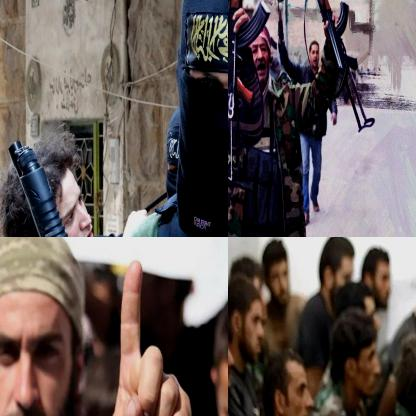rifle: (292, 0, 375, 134), (0, 347, 155, 415), (228, 0, 270, 110)
